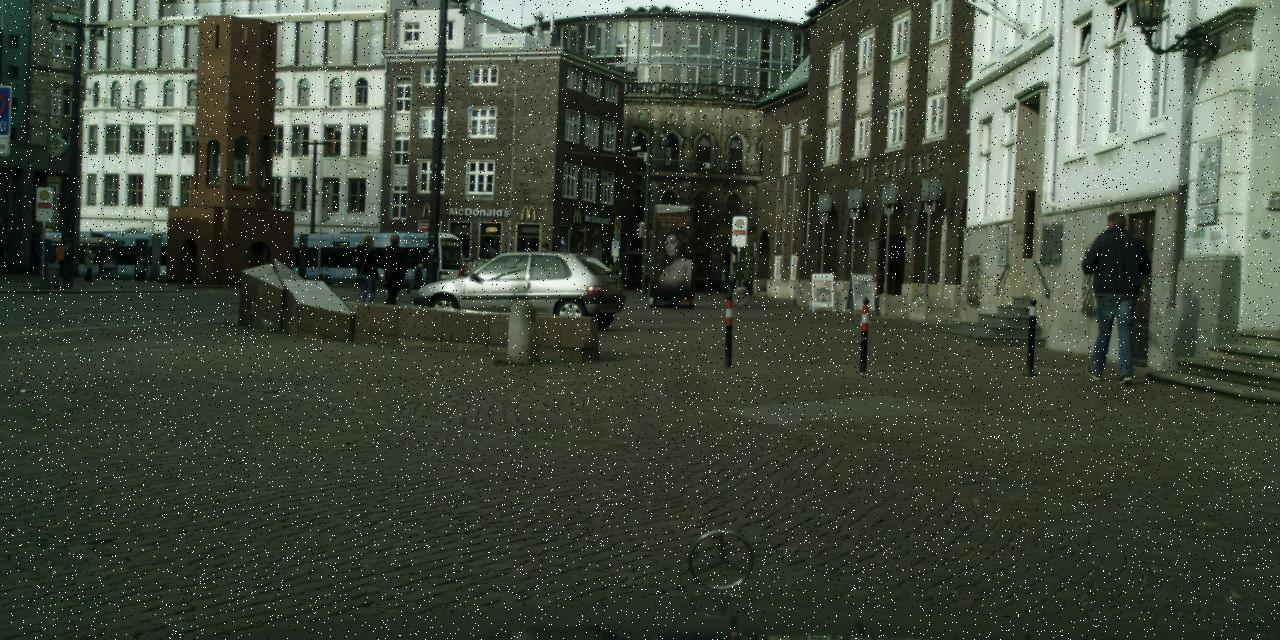ped: (1080, 212, 1150, 382), (377, 234, 408, 312), (350, 234, 381, 310), (533, 242, 554, 294), (81, 242, 97, 280), (726, 266, 739, 298), (411, 263, 423, 293), (606, 263, 616, 288), (457, 264, 467, 288), (615, 267, 623, 287)
